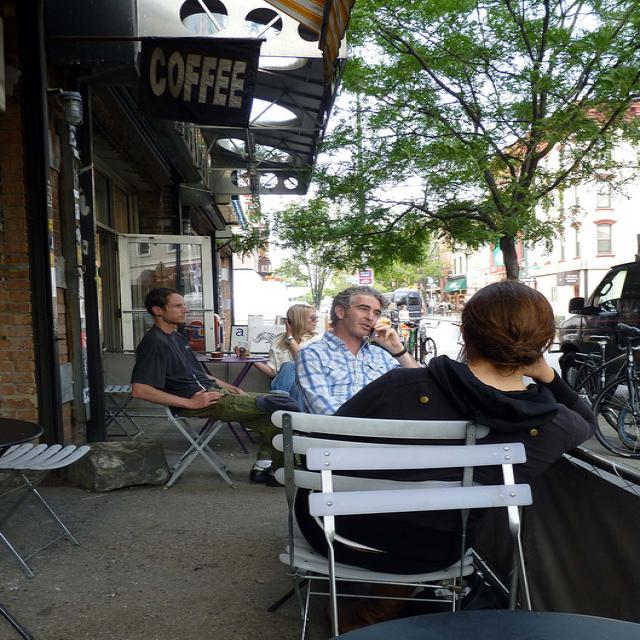Vehicle: (558, 261, 639, 344), (380, 290, 424, 324)
